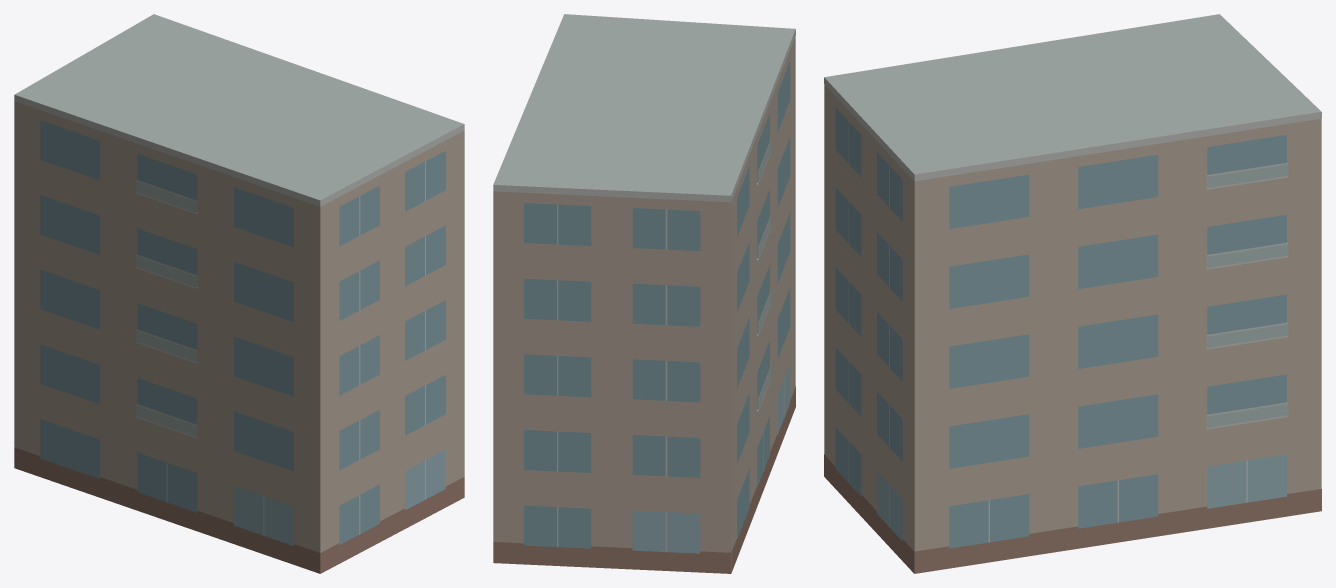
Rendered from survey-upis-32751093.glb.
The picture shows the model from 3 angles, left to right: view 1: azimuth 30°, elevation 25°; view 2: azimuth 150°, elevation 25°; view 3: azimuth 270°, elevation 25°; orthographic projection. The views are drawn at different scales.
Parts seen in each view (by area): view 1: survey-upis-32751093.tmp; view 2: survey-upis-32751093.tmp; view 3: survey-upis-32751093.tmp.
Part boxes in pixels (box(x1,y1,x2,y2)): survey-upis-32751093.tmp: box(14, 14, 464, 573); survey-upis-32751093.tmp: box(493, 14, 795, 573); survey-upis-32751093.tmp: box(824, 14, 1321, 573).
Bounding box in the file's own units: 12.25 × 14.2 × 16.04.
